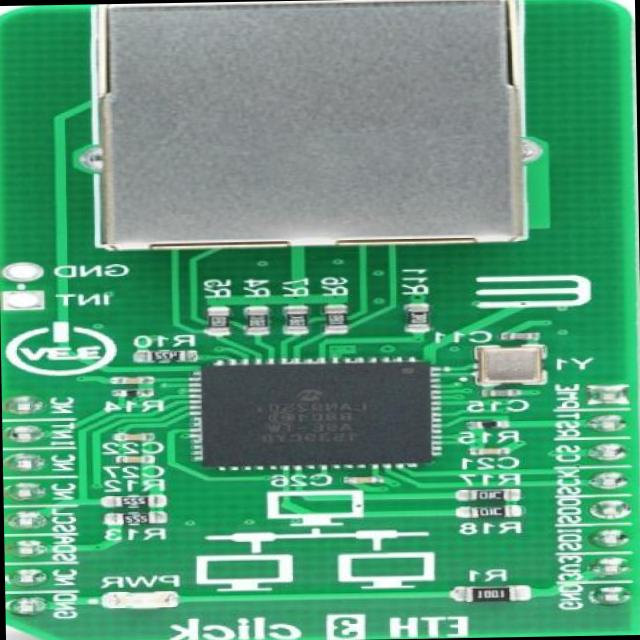IC: (195, 358, 433, 471)
LED: (102, 592, 174, 608)
capacitor: (116, 431, 148, 444), (343, 476, 382, 486), (464, 447, 506, 456), (469, 445, 503, 456), (502, 331, 534, 342), (114, 376, 148, 386), (482, 388, 514, 397), (115, 453, 146, 462)
connector: (85, 0, 543, 253)
resistor: (462, 582, 524, 601), (246, 309, 272, 332), (467, 504, 509, 518), (108, 512, 156, 524), (466, 488, 510, 501), (406, 308, 429, 330), (324, 306, 344, 328), (286, 310, 308, 330), (116, 496, 158, 506), (144, 352, 186, 361), (208, 312, 228, 328), (472, 418, 500, 428), (118, 390, 145, 398)
